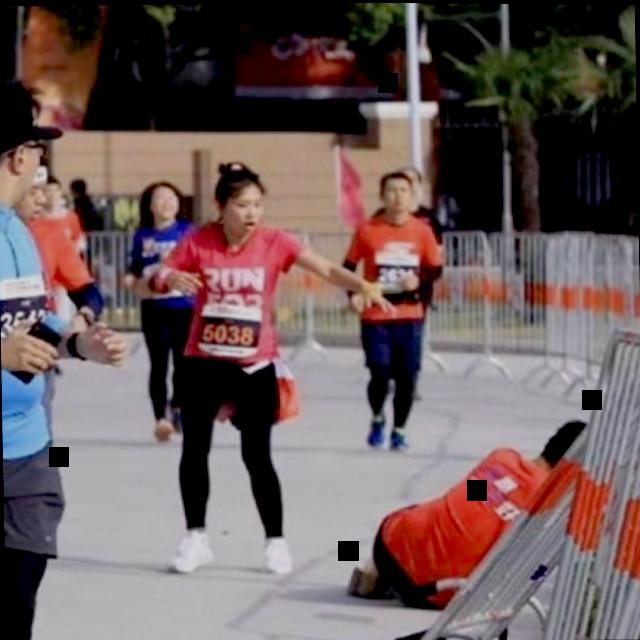Fall-Detected: (334, 391, 610, 630)
